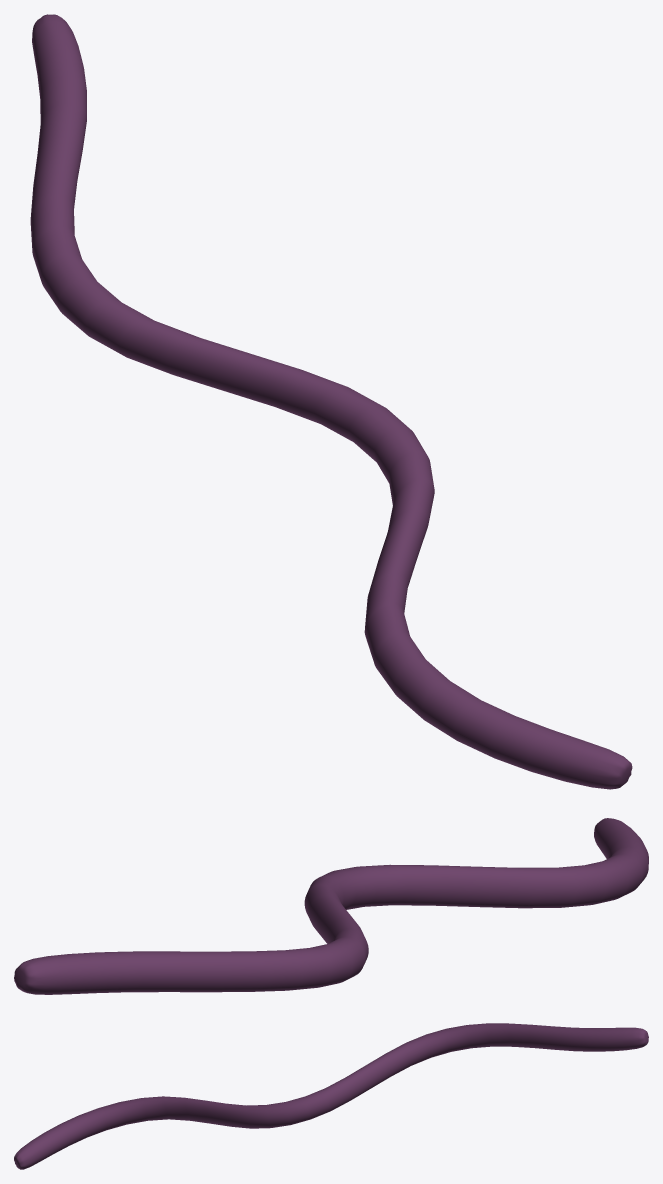
File: frame_19.obj
3 renders of one model, top to bottom at view 1: azimuth 30°, elevation 25°; view 2: azimuth 150°, elevation 25°; view 3: azimuth 270°, elevation 25°, orthographic. The views are drawn at different scales.
Visible parts, largest first — view 1: worm2; view 2: worm2; view 3: worm2.
Part boxes in pixels (box(x1,y1,x2,y2)): worm2: box(30, 14, 632, 789); worm2: box(14, 818, 648, 994); worm2: box(14, 1023, 648, 1169).
Bounding box in the file's own units: 311 × 454 × 1708.
